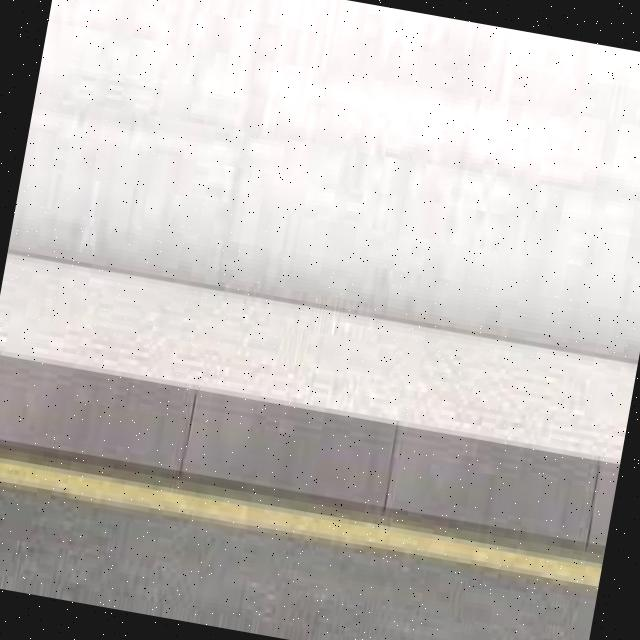curb: (1, 347, 621, 554)
